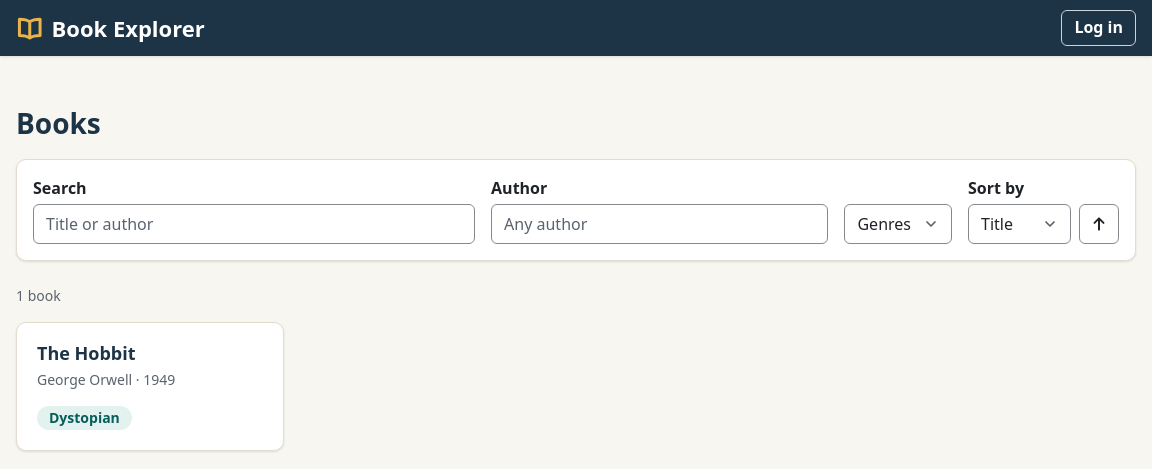
Scenario: a click outside closes the panel, and a click on the button toggles it once
Check: the link "The Hobbit" is shown, box left=37, top=341, right=136, bottom=365
Step 1. Click the button "Genres" → click(898, 224), box left=844, top=204, right=952, bottom=244
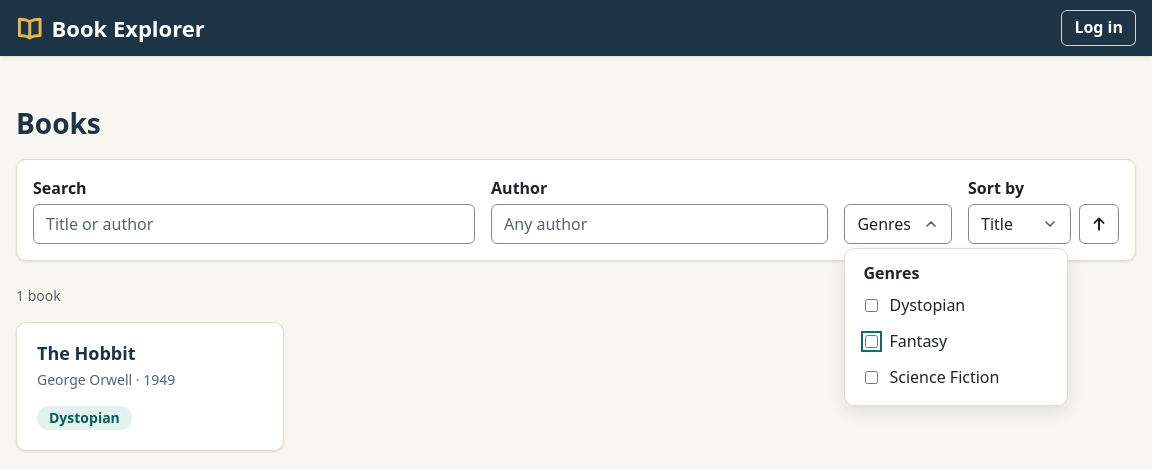
Step 2. Click the heading "Books" → click(58, 123), box left=16, top=104, right=101, bottom=142
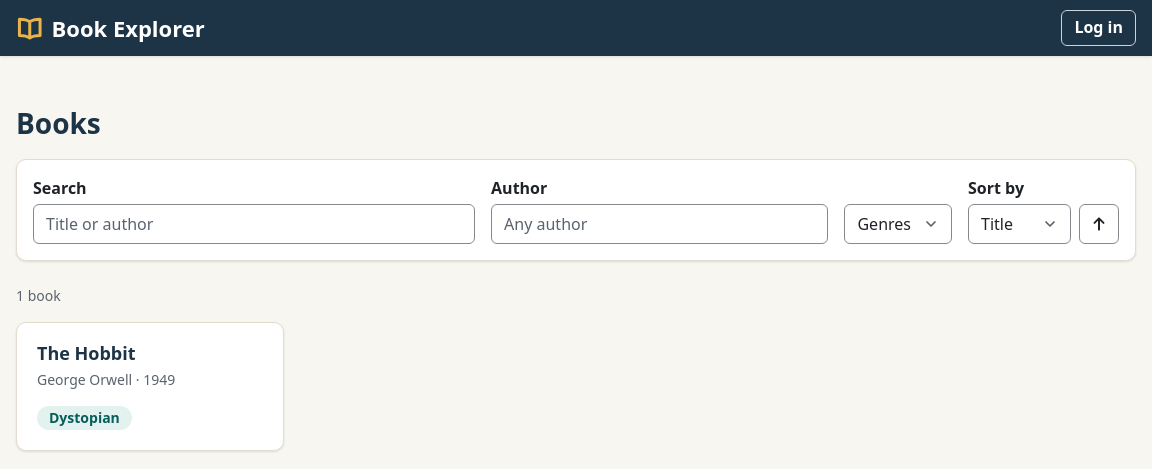
Check: the button "Genres" is collapsed
Step 3. Click the button "Genres" → click(898, 224), box left=844, top=204, right=952, bottom=244
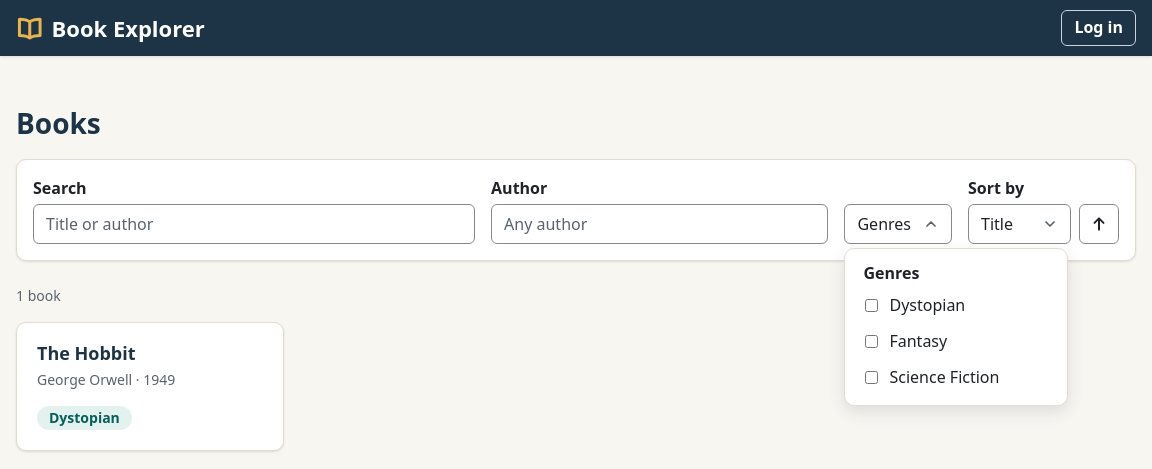
Step 4. Click the button "Genres" → click(898, 224), box left=844, top=204, right=952, bottom=244
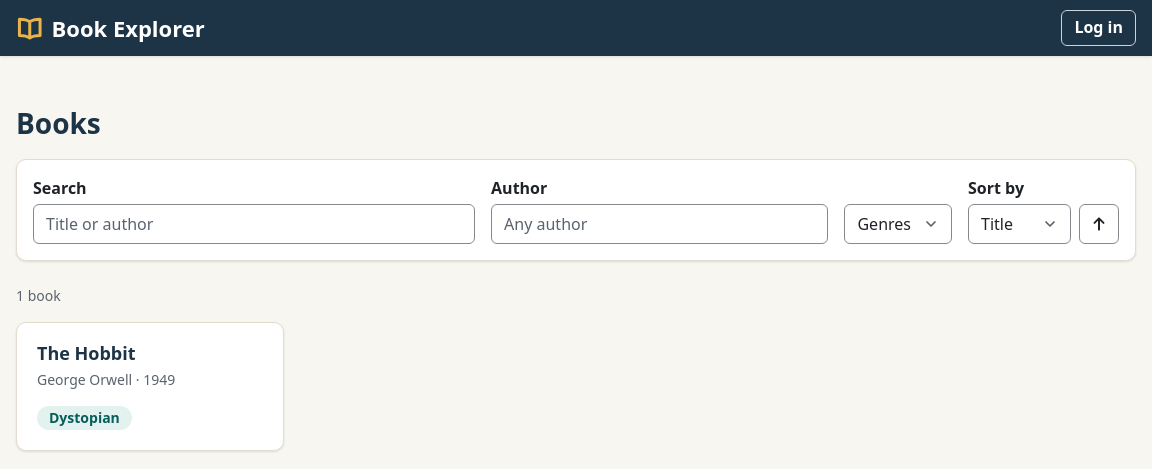
Check: the button "Genres" is collapsed, box left=844, top=204, right=952, bottom=244
